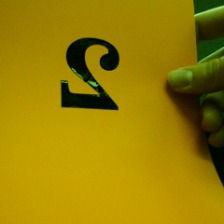orange2: (46, 34, 130, 119)
